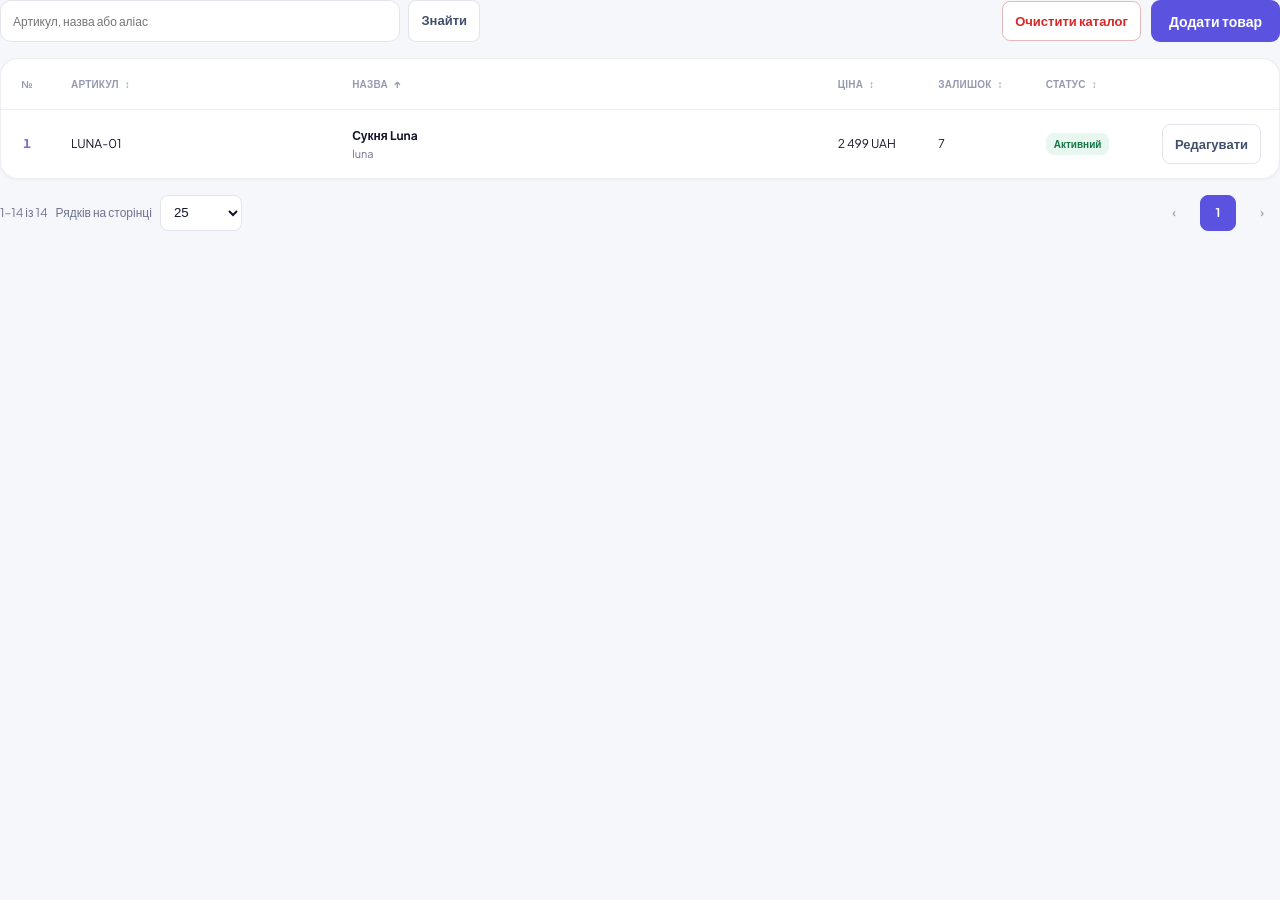
it: CatalogueTable › clears the catalogue only after the owner confirms
Click the button "Очистити каталог".
click(1072, 21)  # box [1002, 1, 1141, 41]
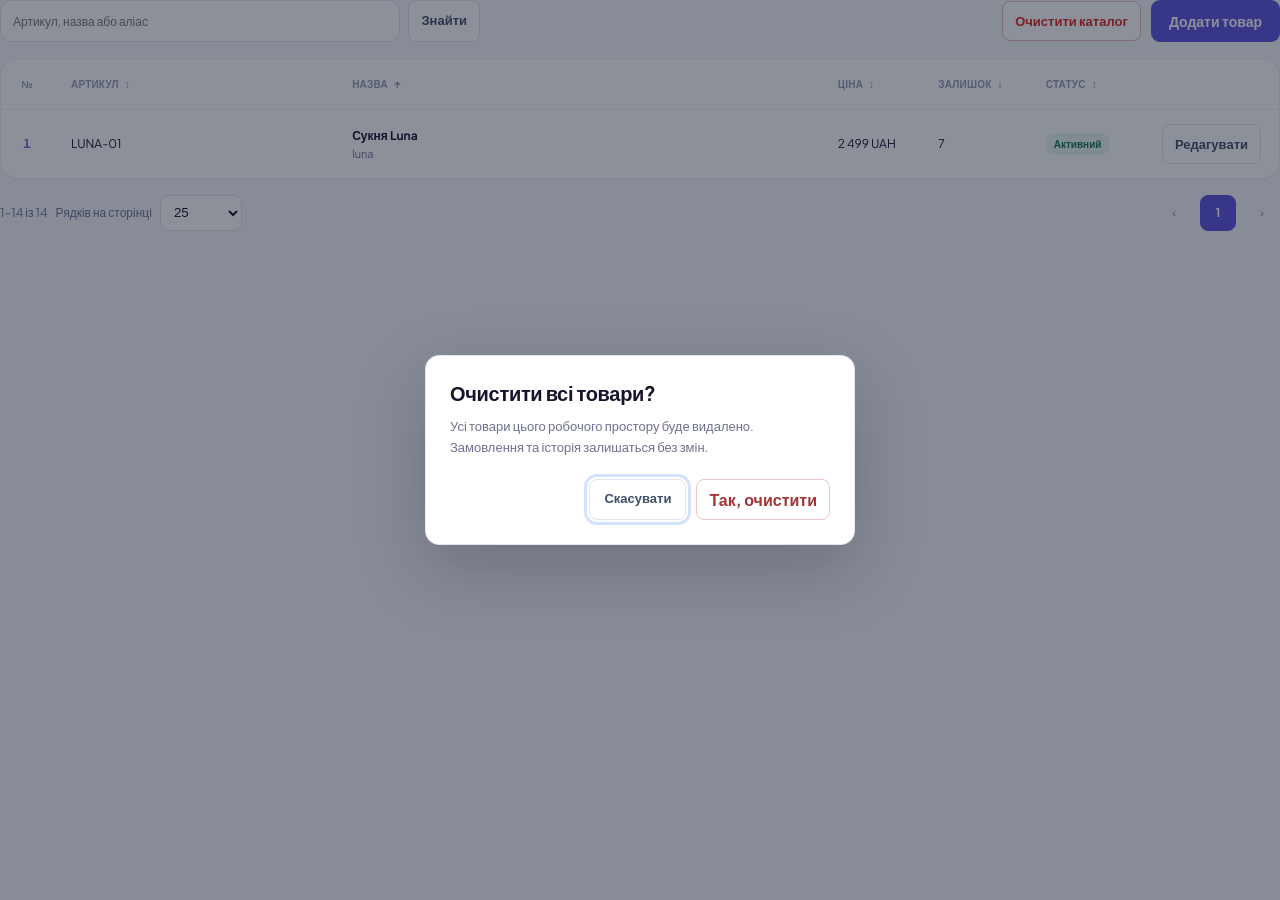
expect the dialog "Очистити всі товари?" is shown: met, box [425, 355, 855, 545]
expect the button "Скасувати" is shown: met, box [589, 479, 686, 520]
Click the button "Так, очистити".
click(763, 499)  # box [696, 479, 830, 520]
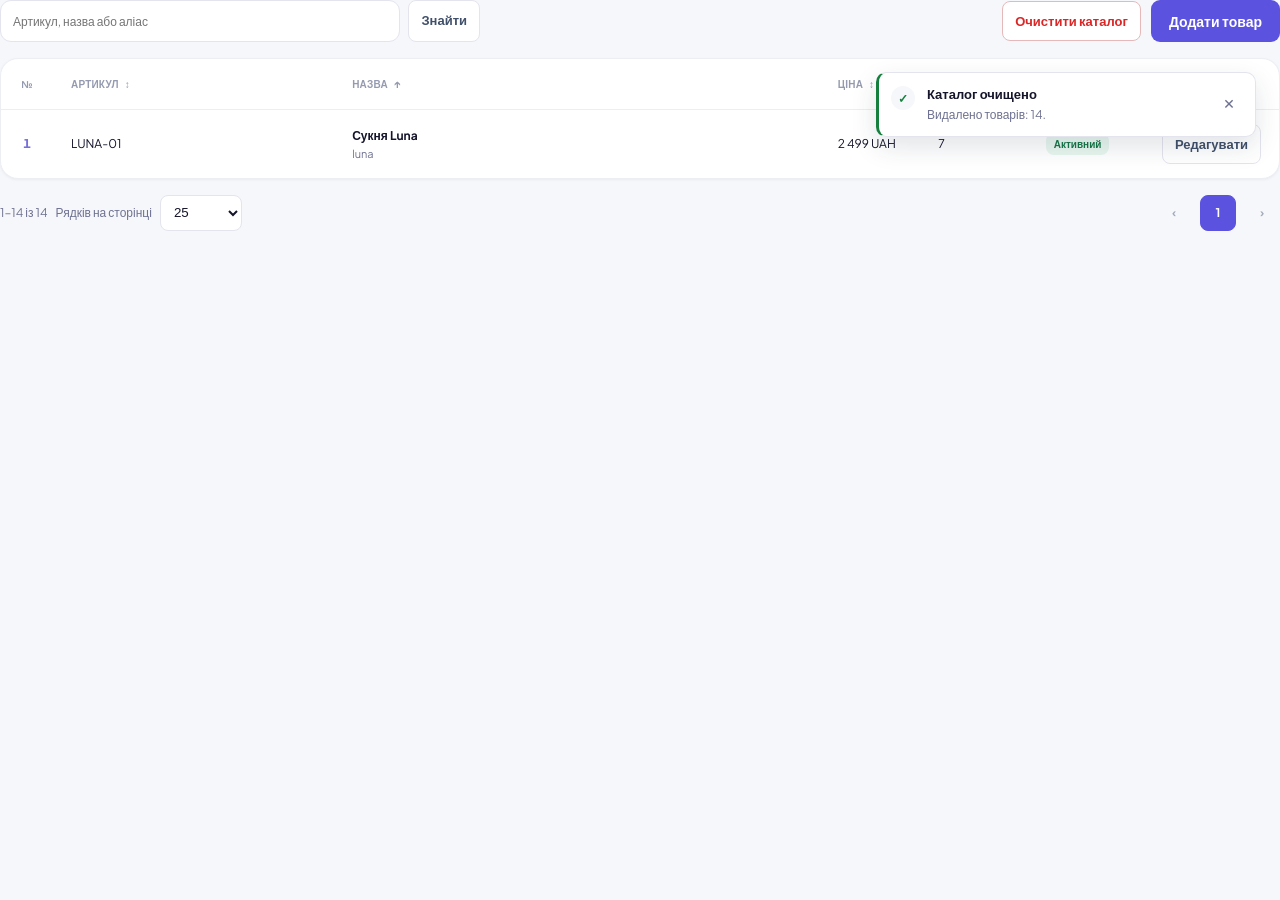
expect the text "Каталог очищено" is shown: met, box [927, 86, 1037, 102]
